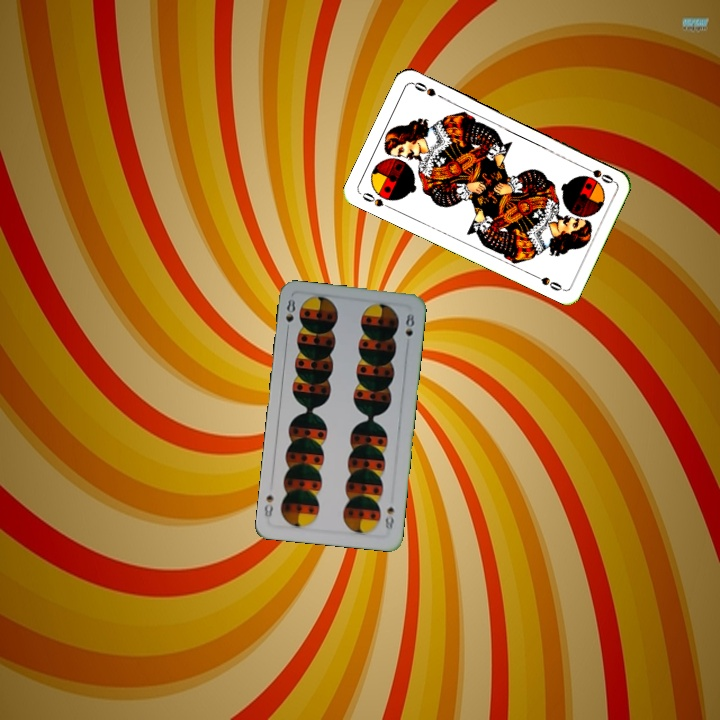S8: (282, 295, 298, 335), (381, 502, 397, 532)
SO: (578, 162, 616, 186), (357, 188, 395, 212)
